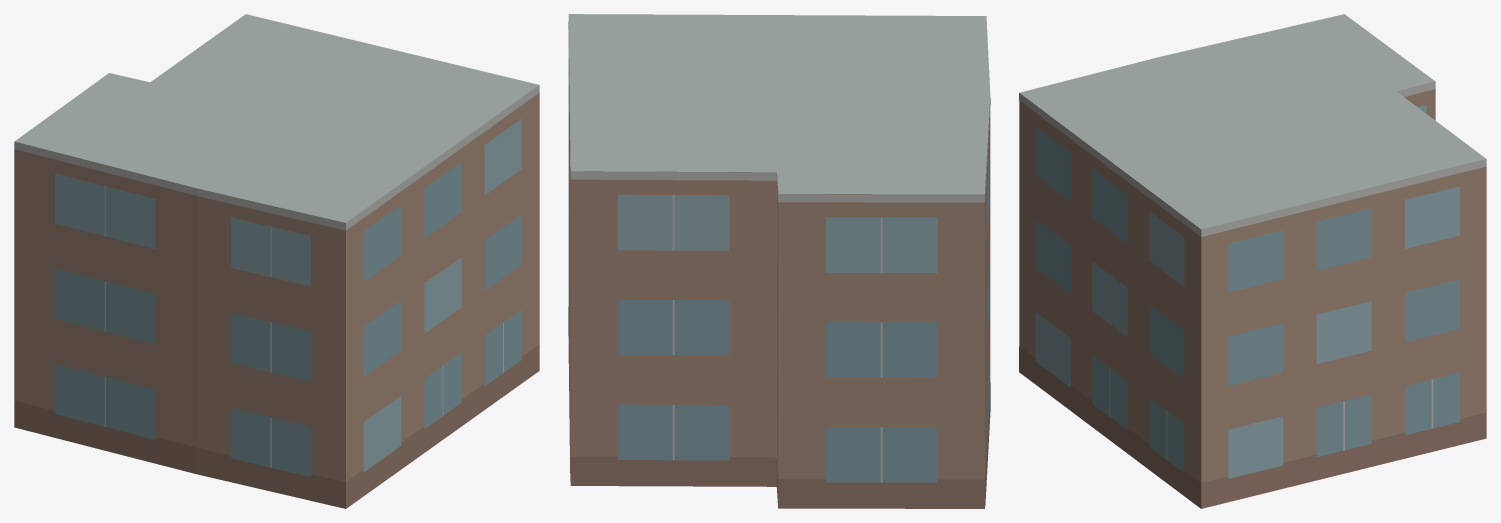
Rendered from survey-upis-32672646.glb.
3 views of the same model, side by side, from view 1: azimuth 30°, elevation 25°; view 2: azimuth 150°, elevation 25°; view 3: azimuth 270°, elevation 25° (orthographic). The views are drawn at different scales.
Parts seen in each view (by area): view 1: survey-upis-32672646.tmp; view 2: survey-upis-32672646.tmp; view 3: survey-upis-32672646.tmp.
Boxes of the visible parts, <box> form: survey-upis-32672646.tmp: <box>14,14,539,508</box>; survey-upis-32672646.tmp: <box>568,14,990,508</box>; survey-upis-32672646.tmp: <box>1019,14,1486,508</box>.
Bounding box in the file's own units: 15.14 × 9.15 × 13.88.
